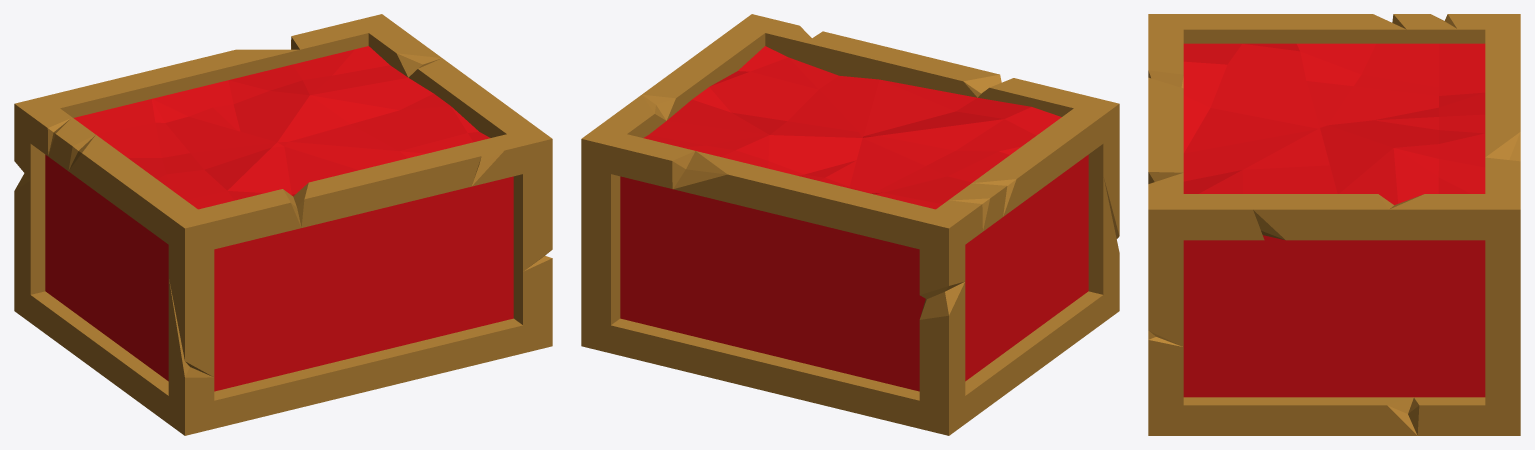
The model's file is caja.fbx.
3 views of the same model, side by side, from view 1: azimuth 30°, elevation 25°; view 2: azimuth 150°, elevation 25°; view 3: azimuth 270°, elevation 25° (orthographic). The views are drawn at different scales.
Visible parts, largest first — view 1: Box; view 2: Box; view 3: Box.
Part boxes in pixels (x1=…): Box: x1=14, y1=14, x2=552, y2=435; Box: x1=581, y1=14, x2=1119, y2=435; Box: x1=1148, y1=14, x2=1520, y2=435.
Bounding box in the file's own units: 542 × 293 × 436.
